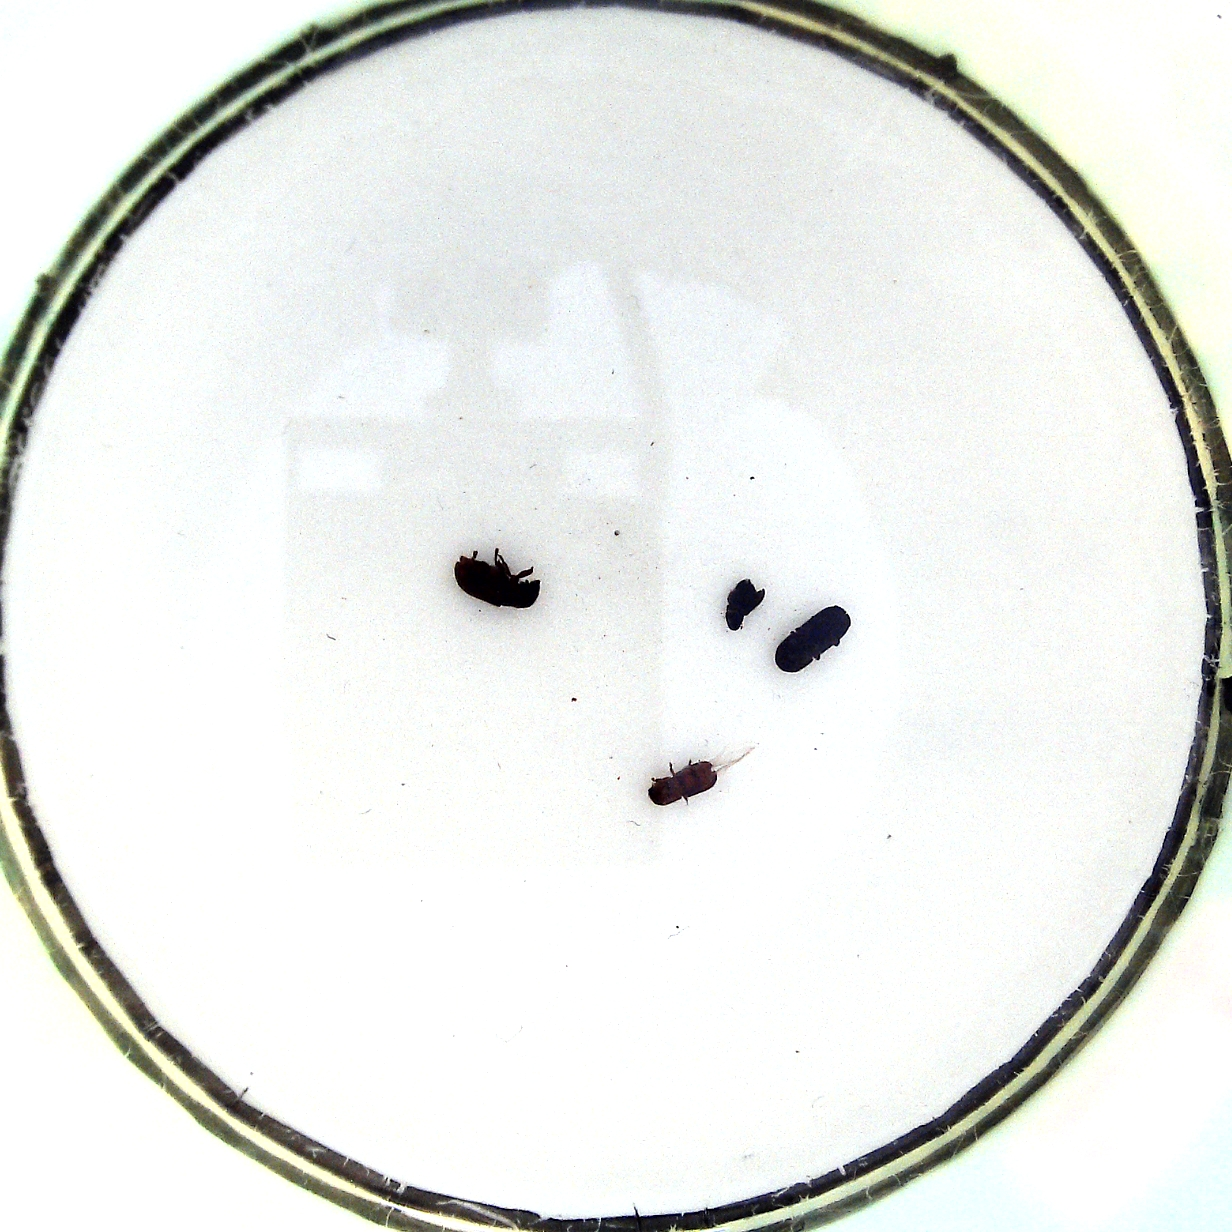Linnaeus: (772, 604, 852, 674)
acuminatus: (642, 751, 734, 809)
armandi: (449, 545, 542, 613)
coleoptera: (719, 572, 763, 631)
